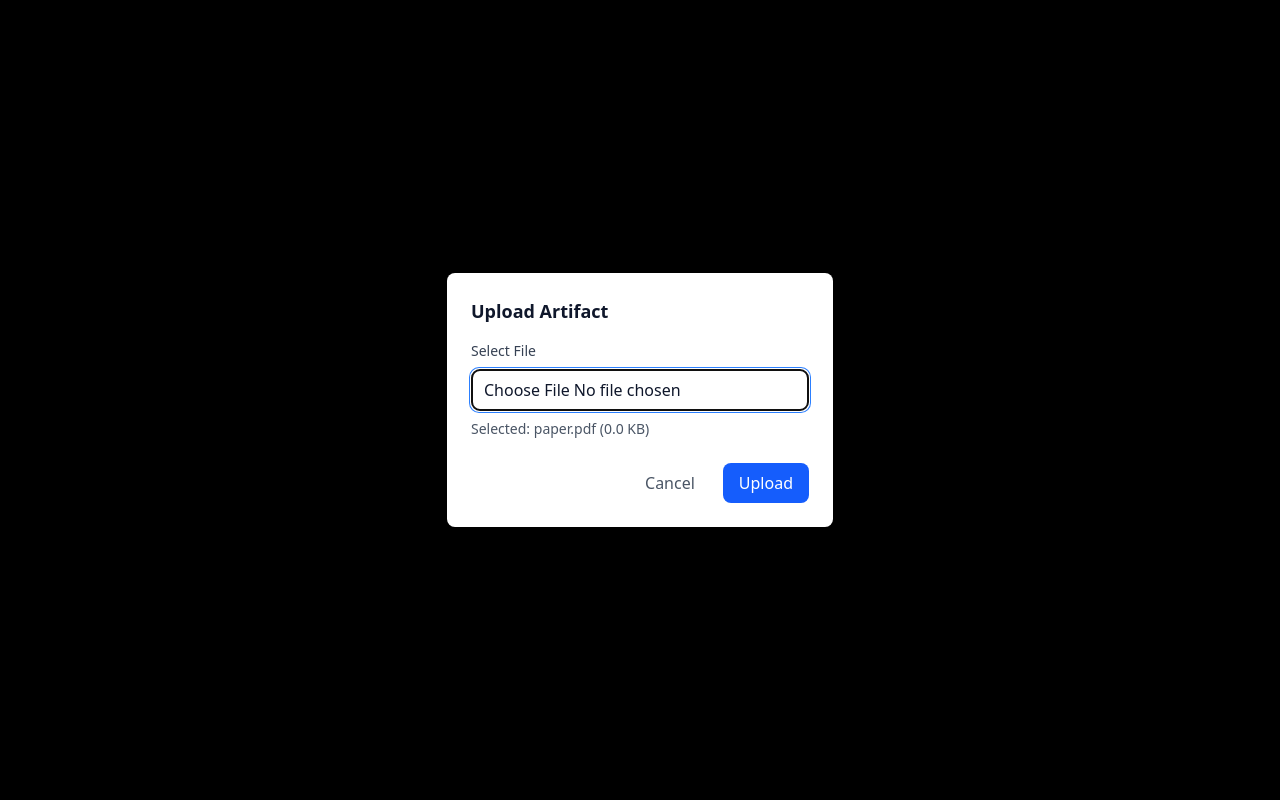
Test: AddArtifactDialog › uploads the selected file and polls the returned job
The width and height of the screenshot is (1280, 800).
Earlier steps of the test are not shown.
Check: the file field is shown, box [471,369,809,411]
Click the button "Upload" at x=766, y=483, box [723,463,809,503]
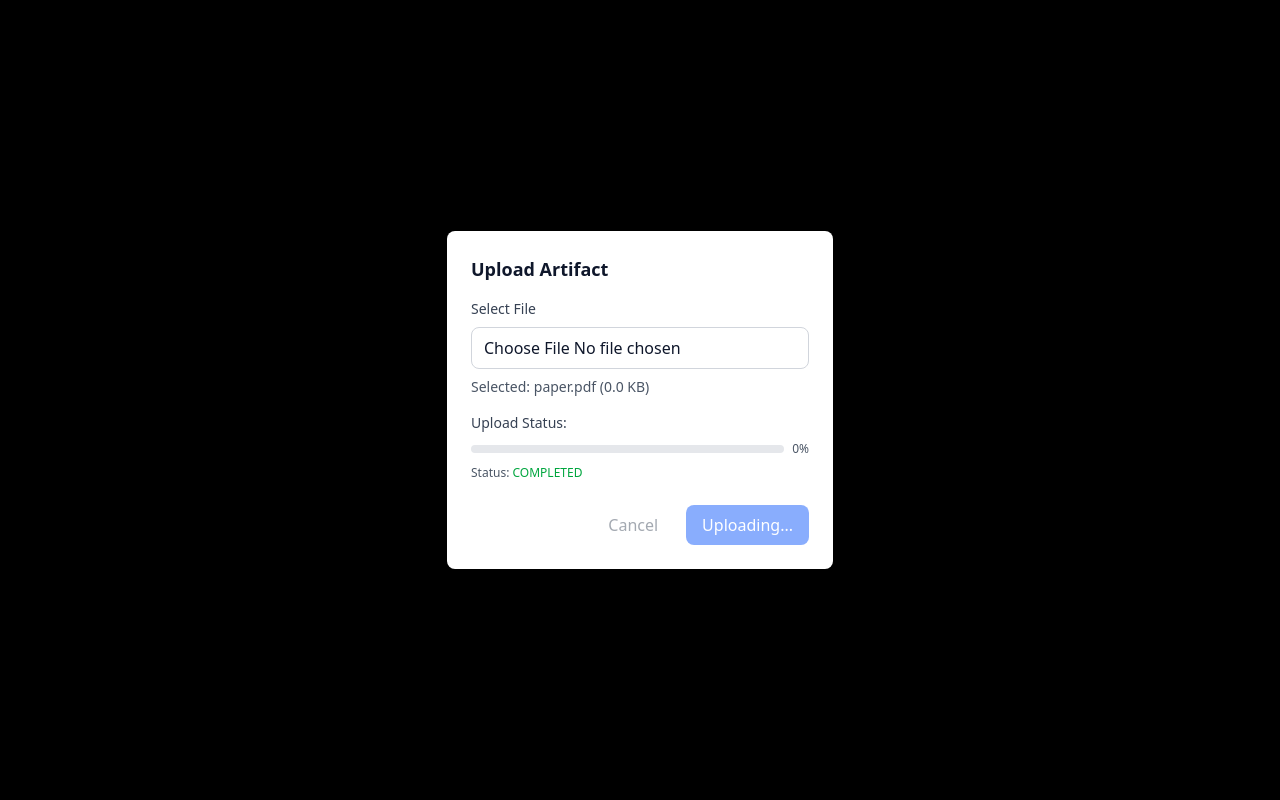
Check: the text "Upload Status:" is shown, box [471,413,567,432]
